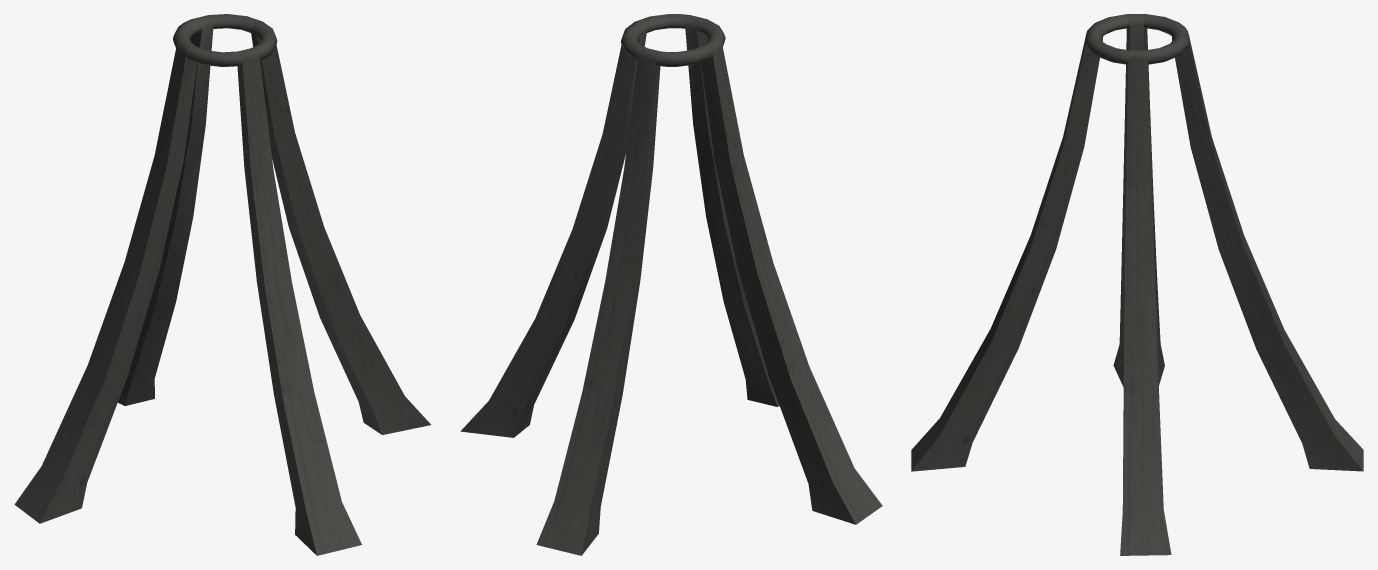
File: SM_ENV_LKNVLD_UmbrellaStand_A.FBX
3 renders of one model, left to right at view 1: azimuth 30°, elevation 25°; view 2: azimuth 150°, elevation 25°; view 3: azimuth 270°, elevation 25°, orthographic.
Parts seen in each view (by area): view 1: SM_ENV_LKNVLD_UmbrellaStand_A; view 2: SM_ENV_LKNVLD_UmbrellaStand_A; view 3: SM_ENV_LKNVLD_UmbrellaStand_A.
Boxes of the visible parts, x1,y1,x2,y2 form: SM_ENV_LKNVLD_UmbrellaStand_A: [14, 14, 430, 555]; SM_ENV_LKNVLD_UmbrellaStand_A: [460, 14, 882, 555]; SM_ENV_LKNVLD_UmbrellaStand_A: [911, 14, 1363, 555].
Bounding box in the file's own units: 54.16 × 56.81 × 54.32.
